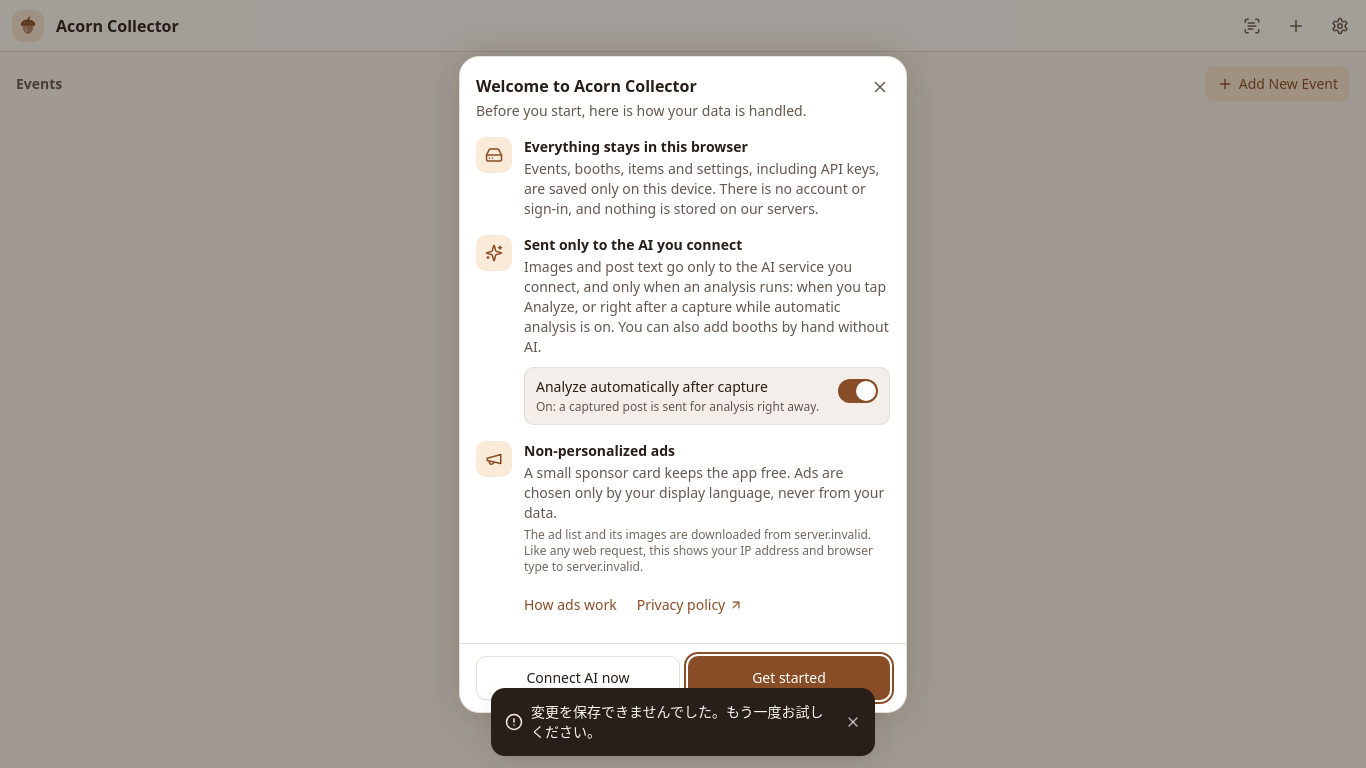
it: side panel first run › shows the first-run notice until it is accepted
The image size is (1366, 768).
Check: the dialog shows "Welcome to Acorn Collector", box [476,74,697,96]
What coordinates should you click on to do the following:
click the button "Get started"
I would click on:
 (789, 678)
Its box is [688,656,890,700].
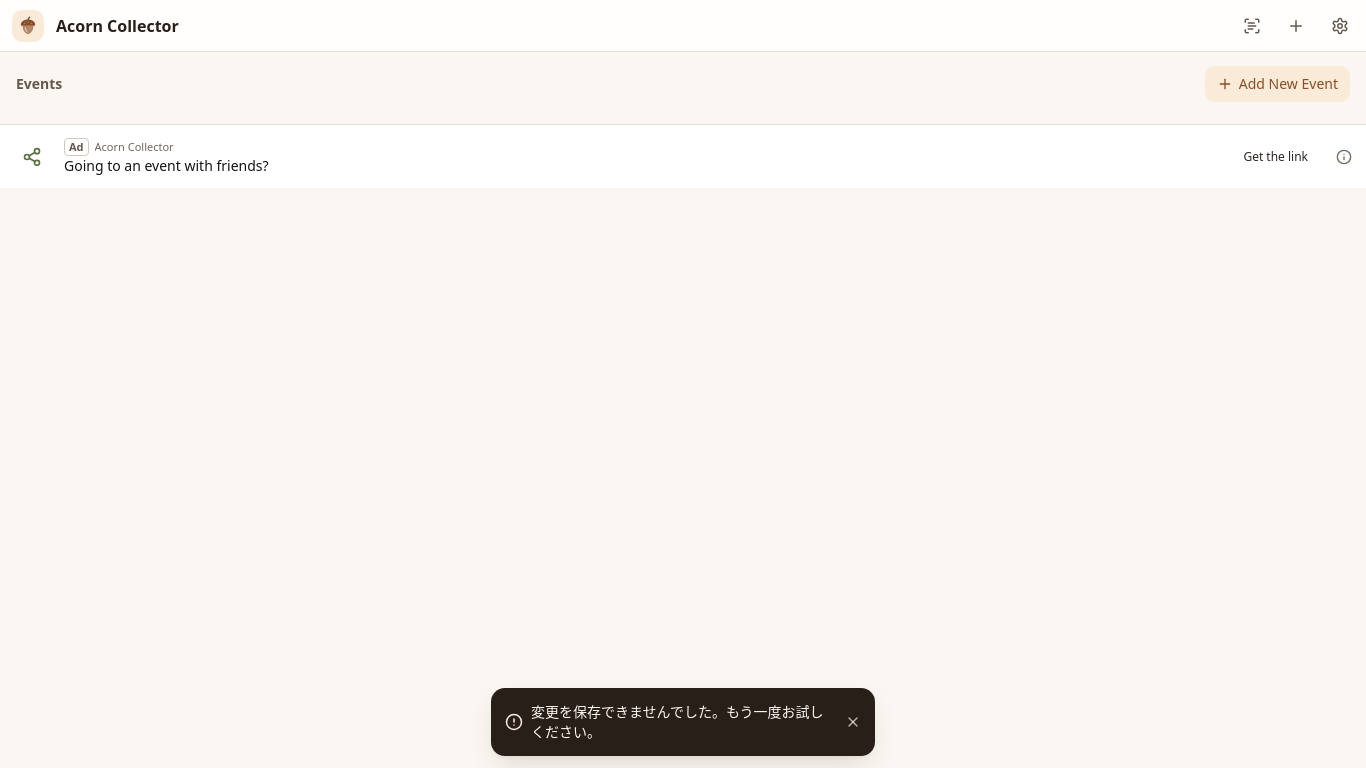
Check: the button "How ads work" is gone
